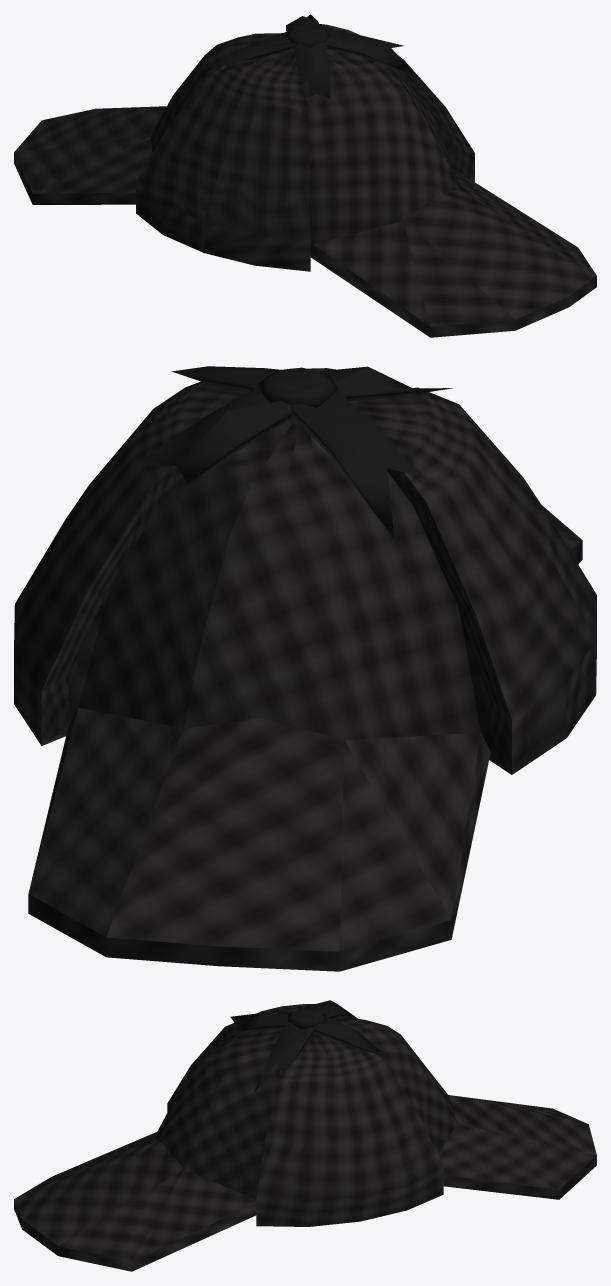
The model's file is outfit_deerstalker.glb.
3 renders of one model, top to bottom at view 1: azimuth 30°, elevation 25°; view 2: azimuth 150°, elevation 25°; view 3: azimuth 270°, elevation 25°, orthographic. The views are drawn at different scales.
Visible parts, largest first — view 1: outfit_deerstalker; view 2: outfit_deerstalker; view 3: outfit_deerstalker.
Boxes of the visible parts, x1=… form: outfit_deerstalker: x1=14, y1=14, x2=596, y2=337; outfit_deerstalker: x1=14, y1=366, x2=596, y2=971; outfit_deerstalker: x1=14, y1=1000, x2=596, y2=1271.
Bounding box in the file's own units: 0.5585 × 0.3 × 0.8766.
1 material, 1 textured.
